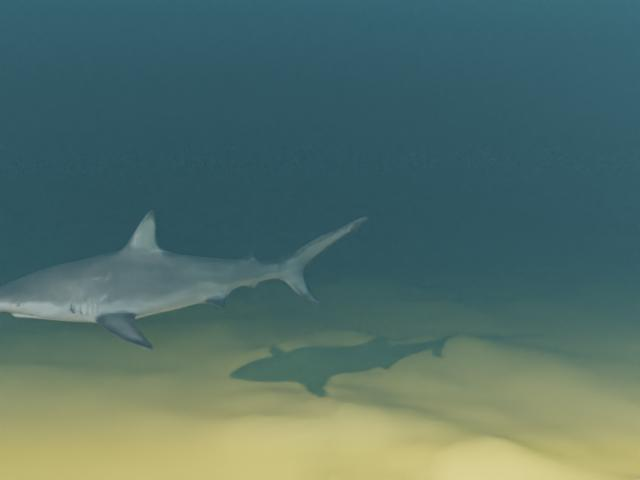Carribean Shark.001: (0, 210, 368, 349)
